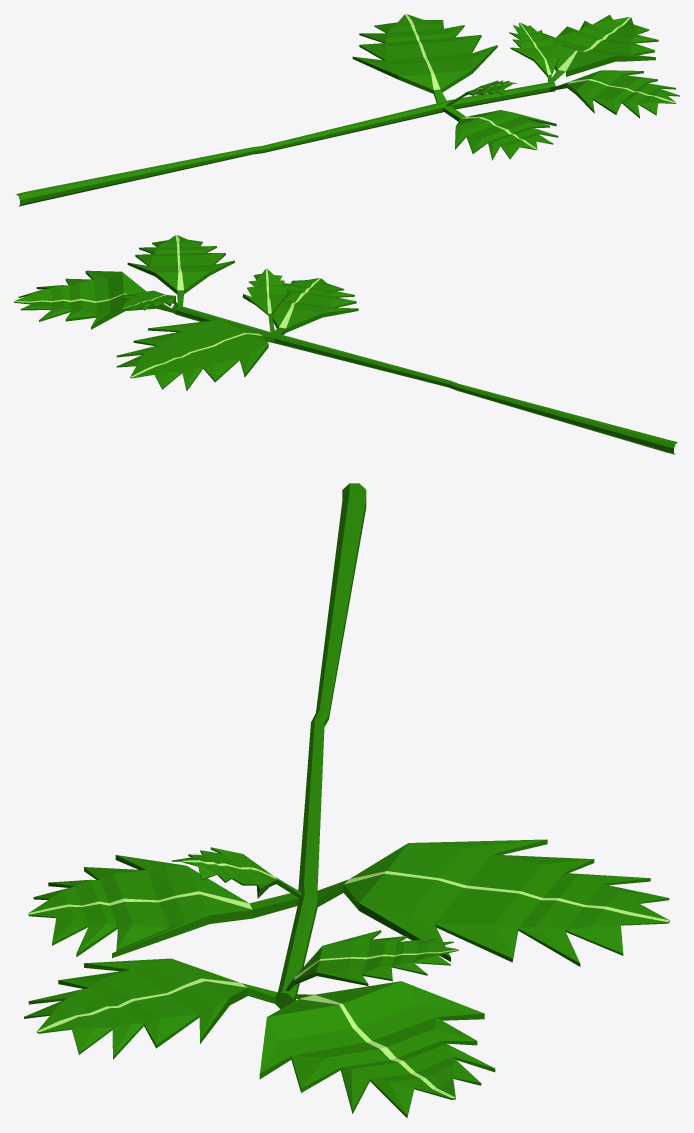
The model's file is parsley01.gltf.
3 renders of one model, top to bottom at view 1: azimuth 30°, elevation 25°; view 2: azimuth 150°, elevation 25°; view 3: azimuth 270°, elevation 25°, orthographic. The views are drawn at different scales.
Visible parts, largest first — view 1: Cylinder; view 2: Cylinder; view 3: Cylinder.
Boxes of the visible parts, left/top/right/bottom form: Cylinder: left=16, top=14, right=679, bottom=206; Cylinder: left=14, top=235, right=677, bottom=454; Cylinder: left=24, top=483, right=669, bottom=1117.
Bounding box in the file's own units: 0.1405 × 0.00903 × 0.0609.
Materials: 1 (1 with a texture image).
